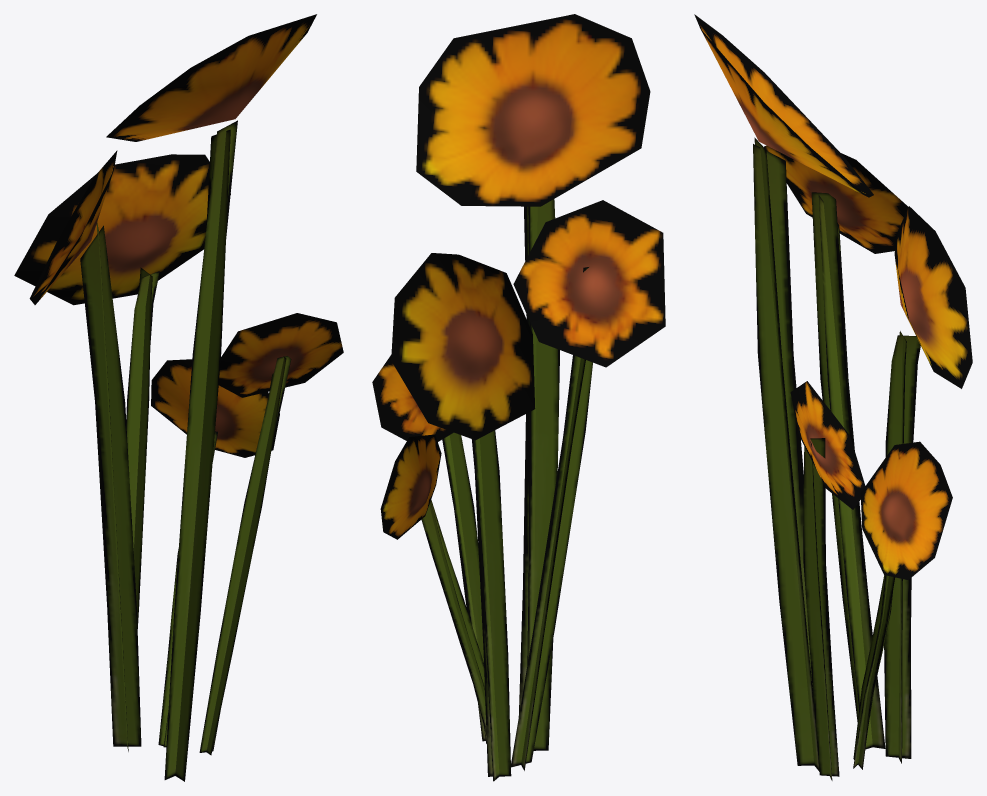
Rendered from SM_FlowersPlant_03.fbx.
The picture shows the model from 3 angles, left to right: view 1: azimuth 30°, elevation 25°; view 2: azimuth 150°, elevation 25°; view 3: azimuth 270°, elevation 25°; orthographic projection. The views are drawn at different scales.
Visible parts, largest first — view 1: SM_FlowersPlant_03_LOD0; view 2: SM_FlowersPlant_03_LOD0; view 3: SM_FlowersPlant_03_LOD0.
Boxes of the visible parts, x1,y1,x2,y2 form: SM_FlowersPlant_03_LOD0: [14, 14, 343, 781]; SM_FlowersPlant_03_LOD0: [372, 14, 665, 781]; SM_FlowersPlant_03_LOD0: [694, 14, 972, 780].
Size of the model in its own units: 25.18 by 20 by 58.96.
Materials: 1 (1 with a texture image).
